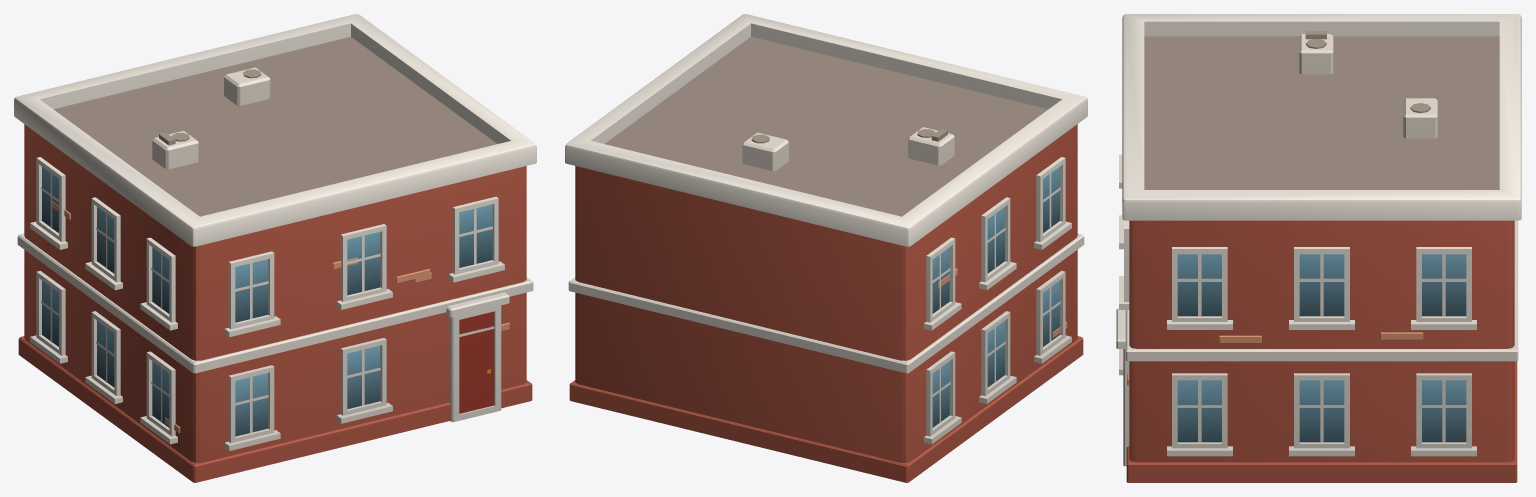
The model's file is vee_left0.glb.
The picture shows the model from 3 angles, left to right: view 1: azimuth 30°, elevation 25°; view 2: azimuth 150°, elevation 25°; view 3: azimuth 270°, elevation 25°; orthographic projection. The views are drawn at different scales.
Visible parts, largest first — view 1: vee_left0; view 2: vee_left0; view 3: vee_left0.
Part boxes in pixels (box(x1,y1,x2,y2)): vee_left0: box(14, 14, 536, 482); vee_left0: box(565, 14, 1087, 482); vee_left0: box(1116, 14, 1521, 482).
Bounding box in the file's own units: 10.48 × 7.71 × 9.46.
1 material, 1 textured.
